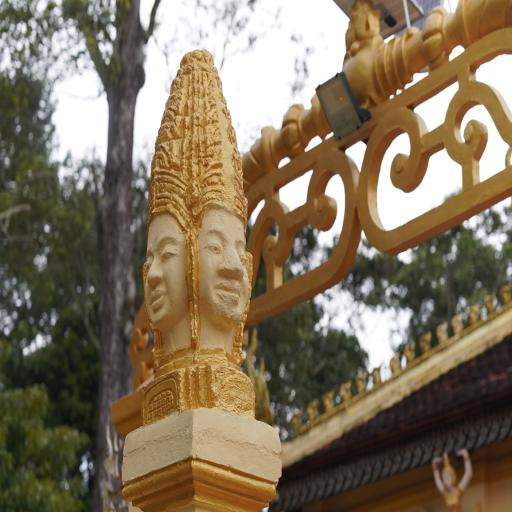than: (110, 53, 297, 437), (422, 432, 480, 512)
